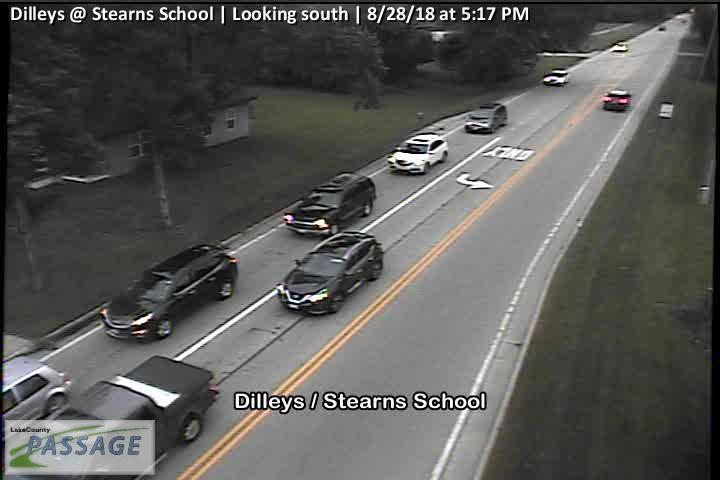SUV: (97, 243, 238, 340), (278, 230, 384, 316), (1, 355, 74, 446), (284, 172, 376, 235), (388, 132, 449, 175), (464, 104, 507, 133), (543, 67, 569, 84)
Sedan: (602, 89, 631, 112), (613, 41, 629, 52)
Truck: (28, 356, 219, 480)
